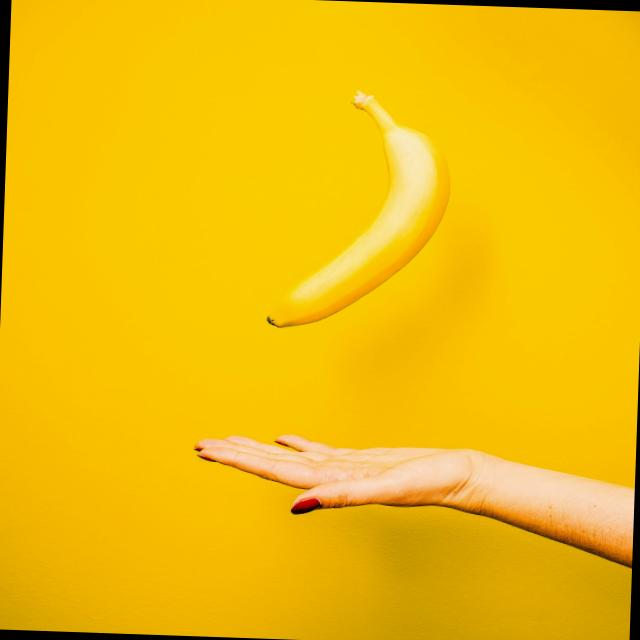banana: (255, 87, 460, 361)
